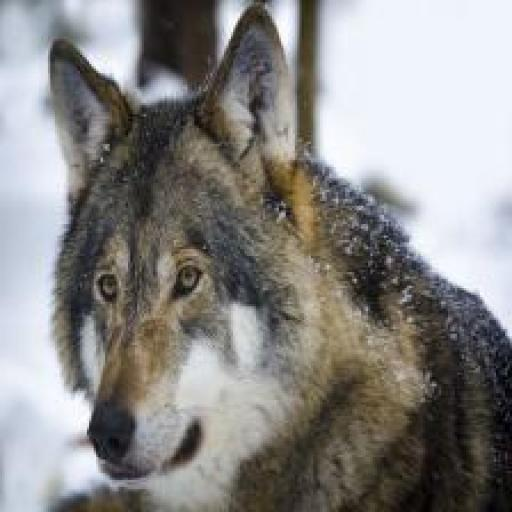wolf: (48, 4, 512, 512)
